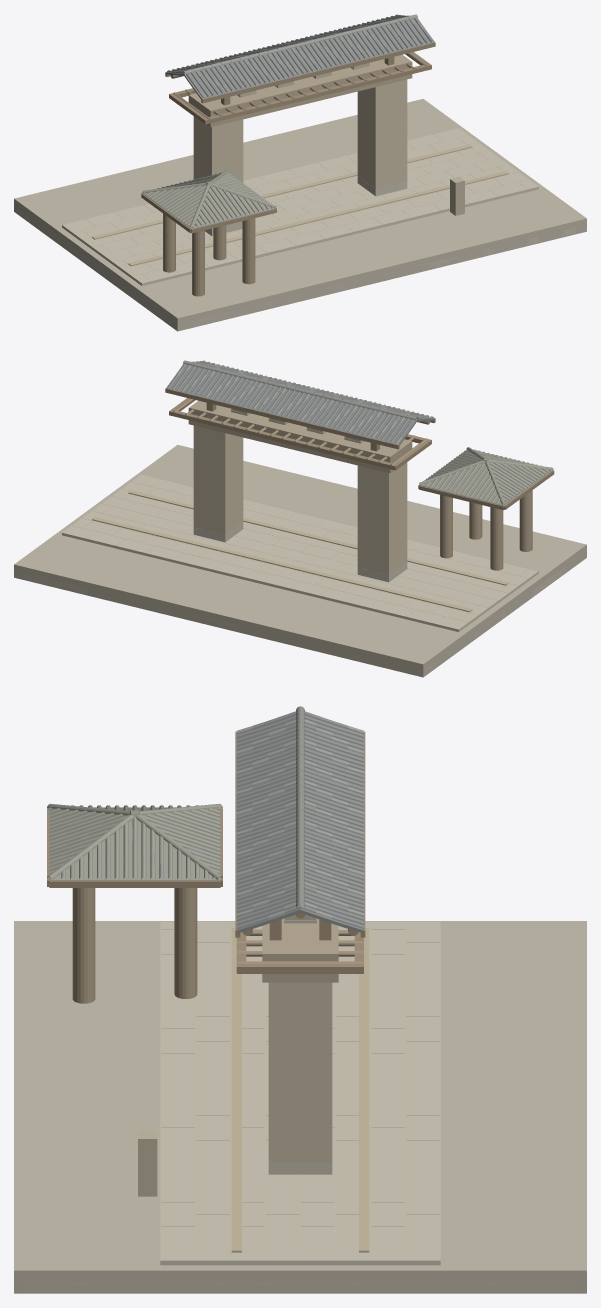
File: chidao.glb
The picture shows the model from 3 angles, top to bottom: view 1: azimuth 30°, elevation 25°; view 2: azimuth 150°, elevation 25°; view 3: azimuth 270°, elevation 25°; orthographic projection. The views are drawn at different scales.
Visible parts, largest first — view 1: chidao; view 2: chidao; view 3: chidao.
Part boxes in pixels (x1,y1,x2,y2): chidao: [14, 14, 586, 331]; chidao: [14, 360, 586, 677]; chidao: [14, 706, 586, 1293].
Bounding box in the file's own units: 15 × 6.26 × 10.38.
